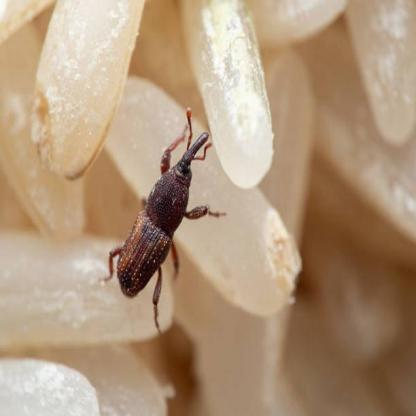rice-bug: (116, 121, 220, 304)
